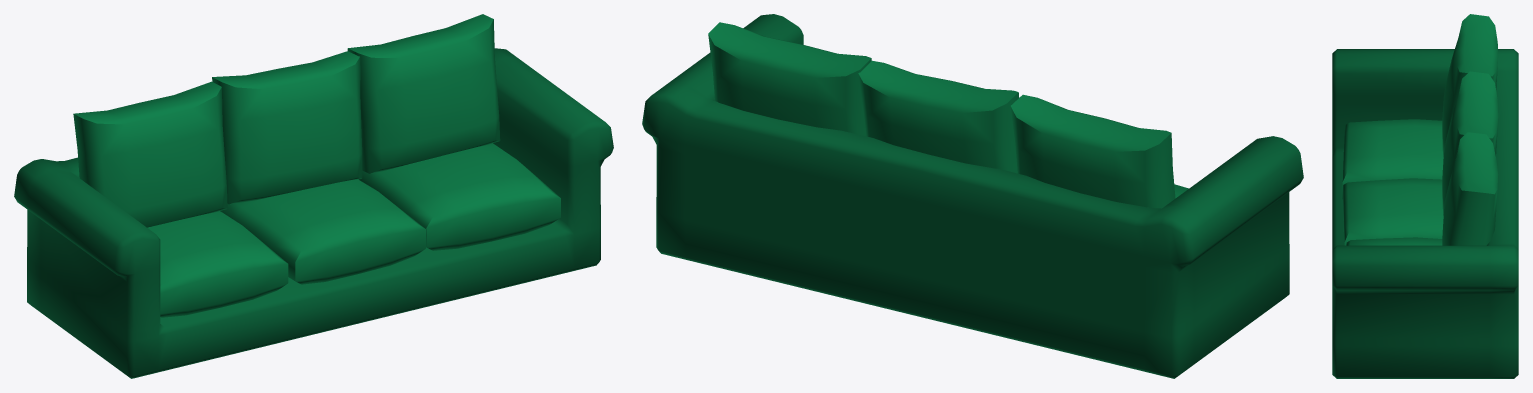
The model's file is sofa.glb.
The picture shows the model from 3 angles, left to right: view 1: azimuth 30°, elevation 25°; view 2: azimuth 150°, elevation 25°; view 3: azimuth 270°, elevation 25°; orthographic projection. The views are drawn at different scales.
Visible parts, largest first — view 1: Couch_Large1; view 2: Couch_Large1; view 3: Couch_Large1.
Part boxes in pixels (left/top/right/bottom): Couch_Large1: left=14, top=14, right=613, bottom=378; Couch_Large1: left=642, top=14, right=1303, bottom=378; Couch_Large1: left=1332, top=14, right=1518, bottom=378.
Size of the model in its own units: 5.48 by 2.11 by 1.99.
